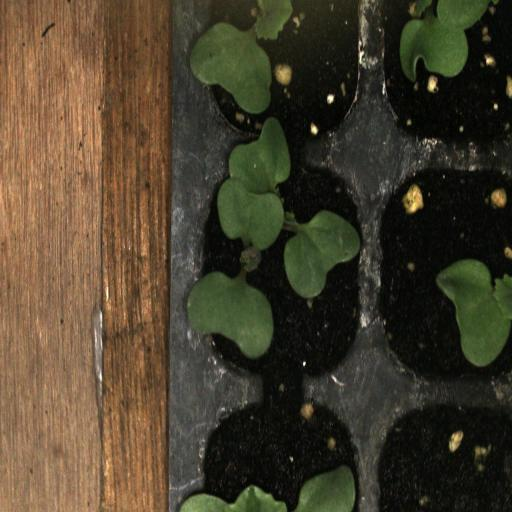seedling: (374, 152, 512, 381), (192, 0, 372, 153)
twoseedling: (188, 154, 371, 387)
